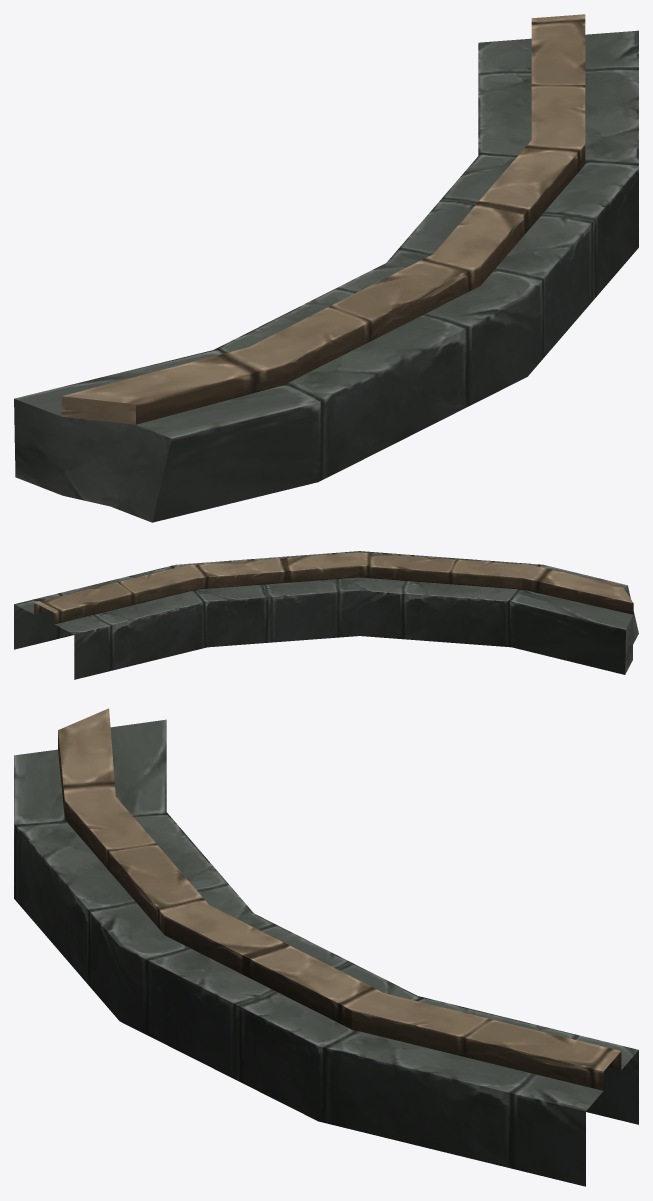
The model's file is sn_newshanlin_fbbrick_001.FBX.
3 renders of one model, top to bottom at view 1: azimuth 30°, elevation 25°; view 2: azimuth 150°, elevation 25°; view 3: azimuth 270°, elevation 25°, orthographic. The views are drawn at different scales.
Parts seen in each view (by area): view 1: sn_newshanlin_fbbrick_001; view 2: sn_newshanlin_fbbrick_001; view 3: sn_newshanlin_fbbrick_001.
Part boxes in pixels (x1,y1,x2,y2): sn_newshanlin_fbbrick_001: [14, 14, 638, 522]; sn_newshanlin_fbbrick_001: [14, 551, 638, 679]; sn_newshanlin_fbbrick_001: [14, 708, 638, 1186].
Size of the model in its own units: 2.2 by 1.48 by 0.2481.
